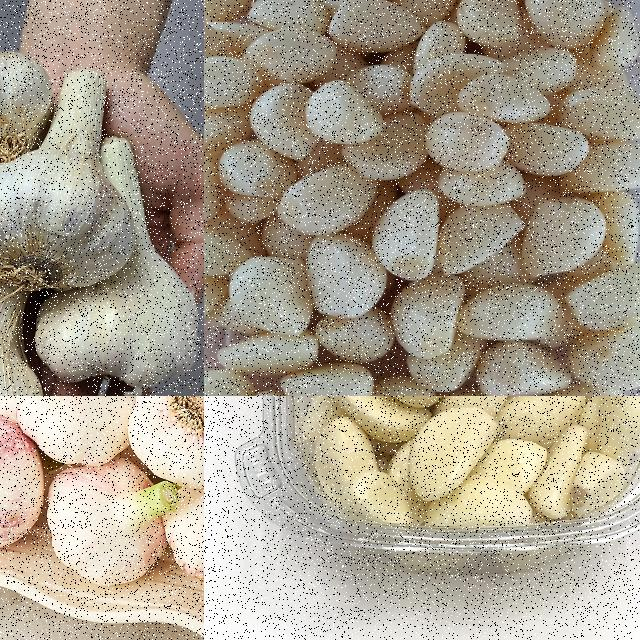garlic: (204, 0, 639, 395), (29, 138, 203, 390), (304, 396, 639, 523), (0, 69, 139, 297), (46, 452, 182, 588), (0, 0, 57, 199), (10, 396, 138, 473), (0, 407, 52, 555), (127, 396, 203, 491), (158, 440, 203, 600), (0, 265, 53, 395)
